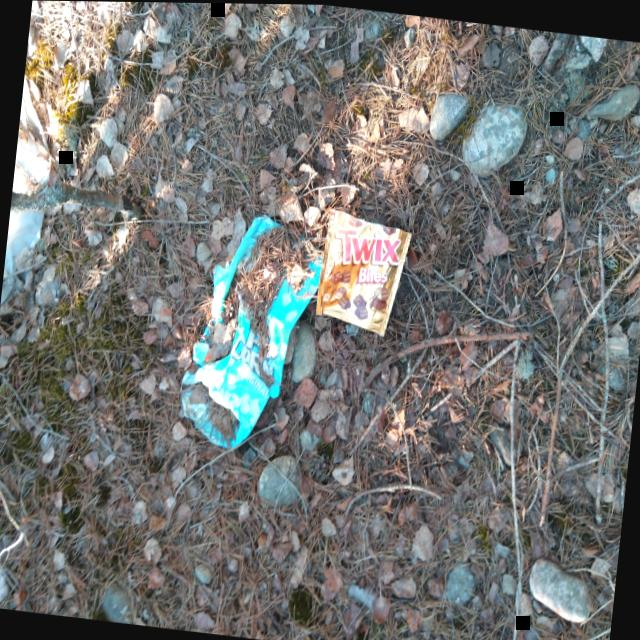Other plastic: (180, 212, 322, 446), (316, 206, 412, 334)
